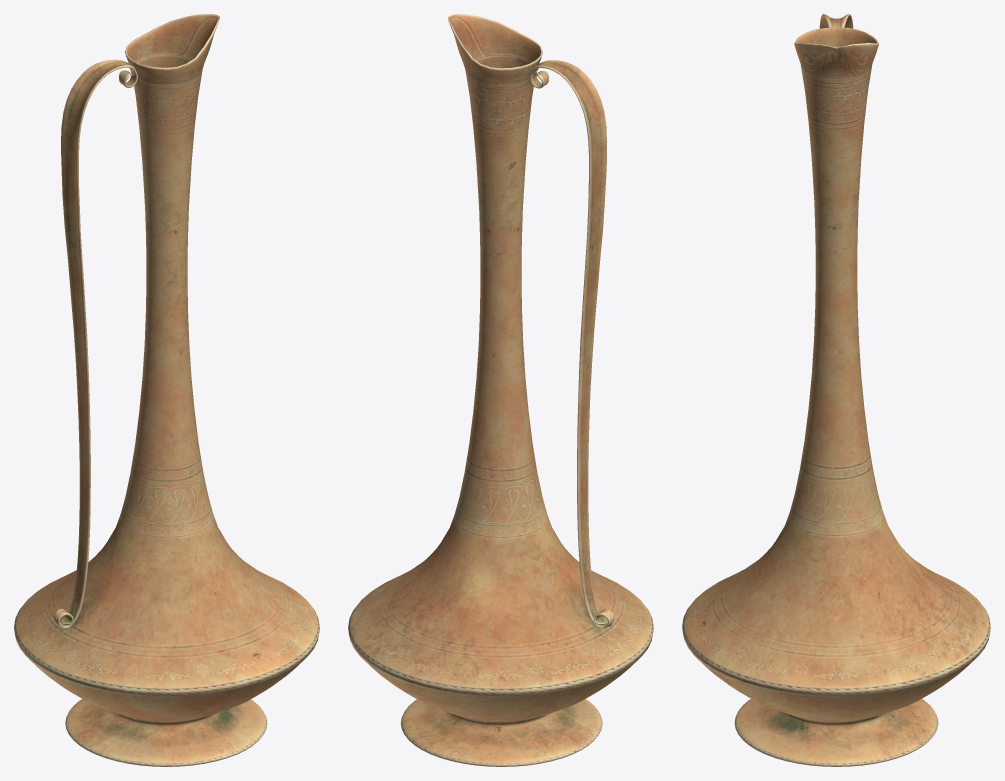
The model's file is Jarron_Arabe_Laton-v1.glb.
The picture shows the model from 3 angles, left to right: view 1: azimuth 30°, elevation 25°; view 2: azimuth 150°, elevation 25°; view 3: azimuth 270°, elevation 25°; orthographic projection.
Parts seen in each view (by area): view 1: brass_vase_02; view 2: brass_vase_02; view 3: brass_vase_02.
Part boxes in pixels (bbox=[...]): brass_vase_02: bbox=[14, 14, 319, 766]; brass_vase_02: bbox=[348, 14, 653, 766]; brass_vase_02: bbox=[682, 14, 990, 766].
Size of the model in its own units: 0.2102 by 0.5286 by 0.2102.
1 material, 1 textured.
